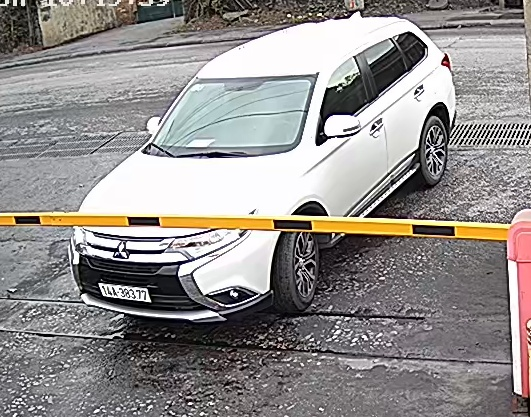vehicle plate: (93, 280, 155, 307)
